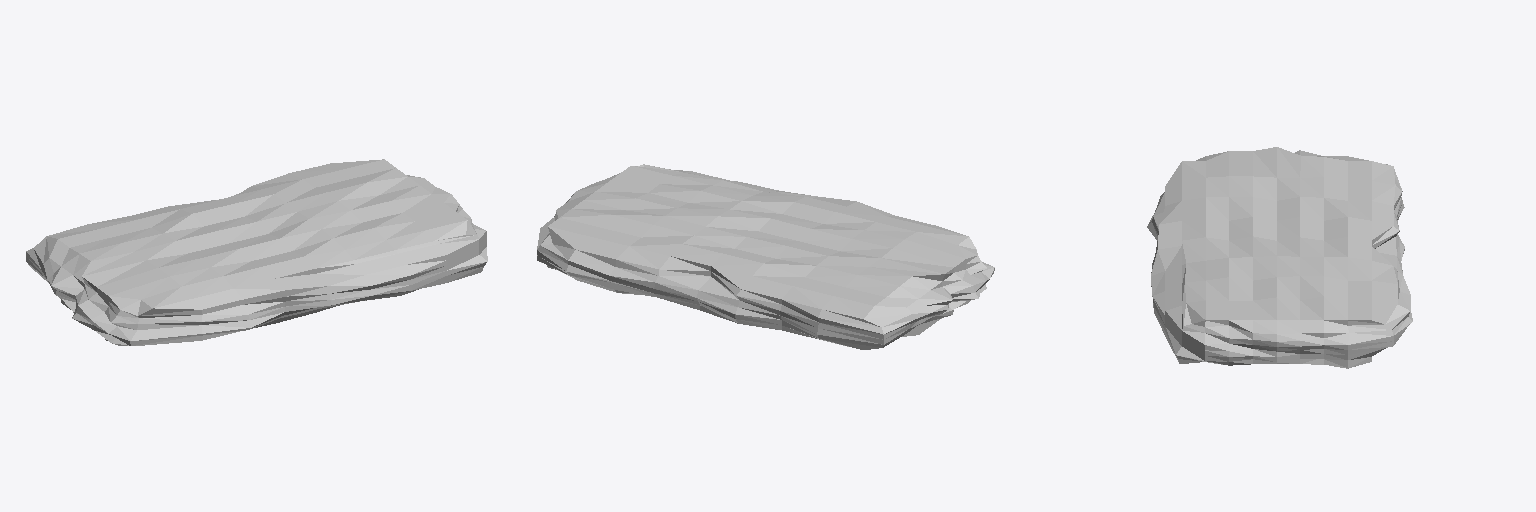
The model's file is FlatRock.obj.
3 renders of one model, left to right at view 1: azimuth 30°, elevation 25°; view 2: azimuth 150°, elevation 25°; view 3: azimuth 270°, elevation 25°, orthographic.
Visible parts, largest first — view 1: Cube; view 2: Cube; view 3: Cube.
Part boxes in pixels (bbox=[...]): Cube: bbox=[26, 159, 487, 345]; Cube: bbox=[537, 164, 994, 349]; Cube: bbox=[1147, 147, 1412, 368].
Size of the model in its own units: 6.51 by 0.8121 by 3.8.